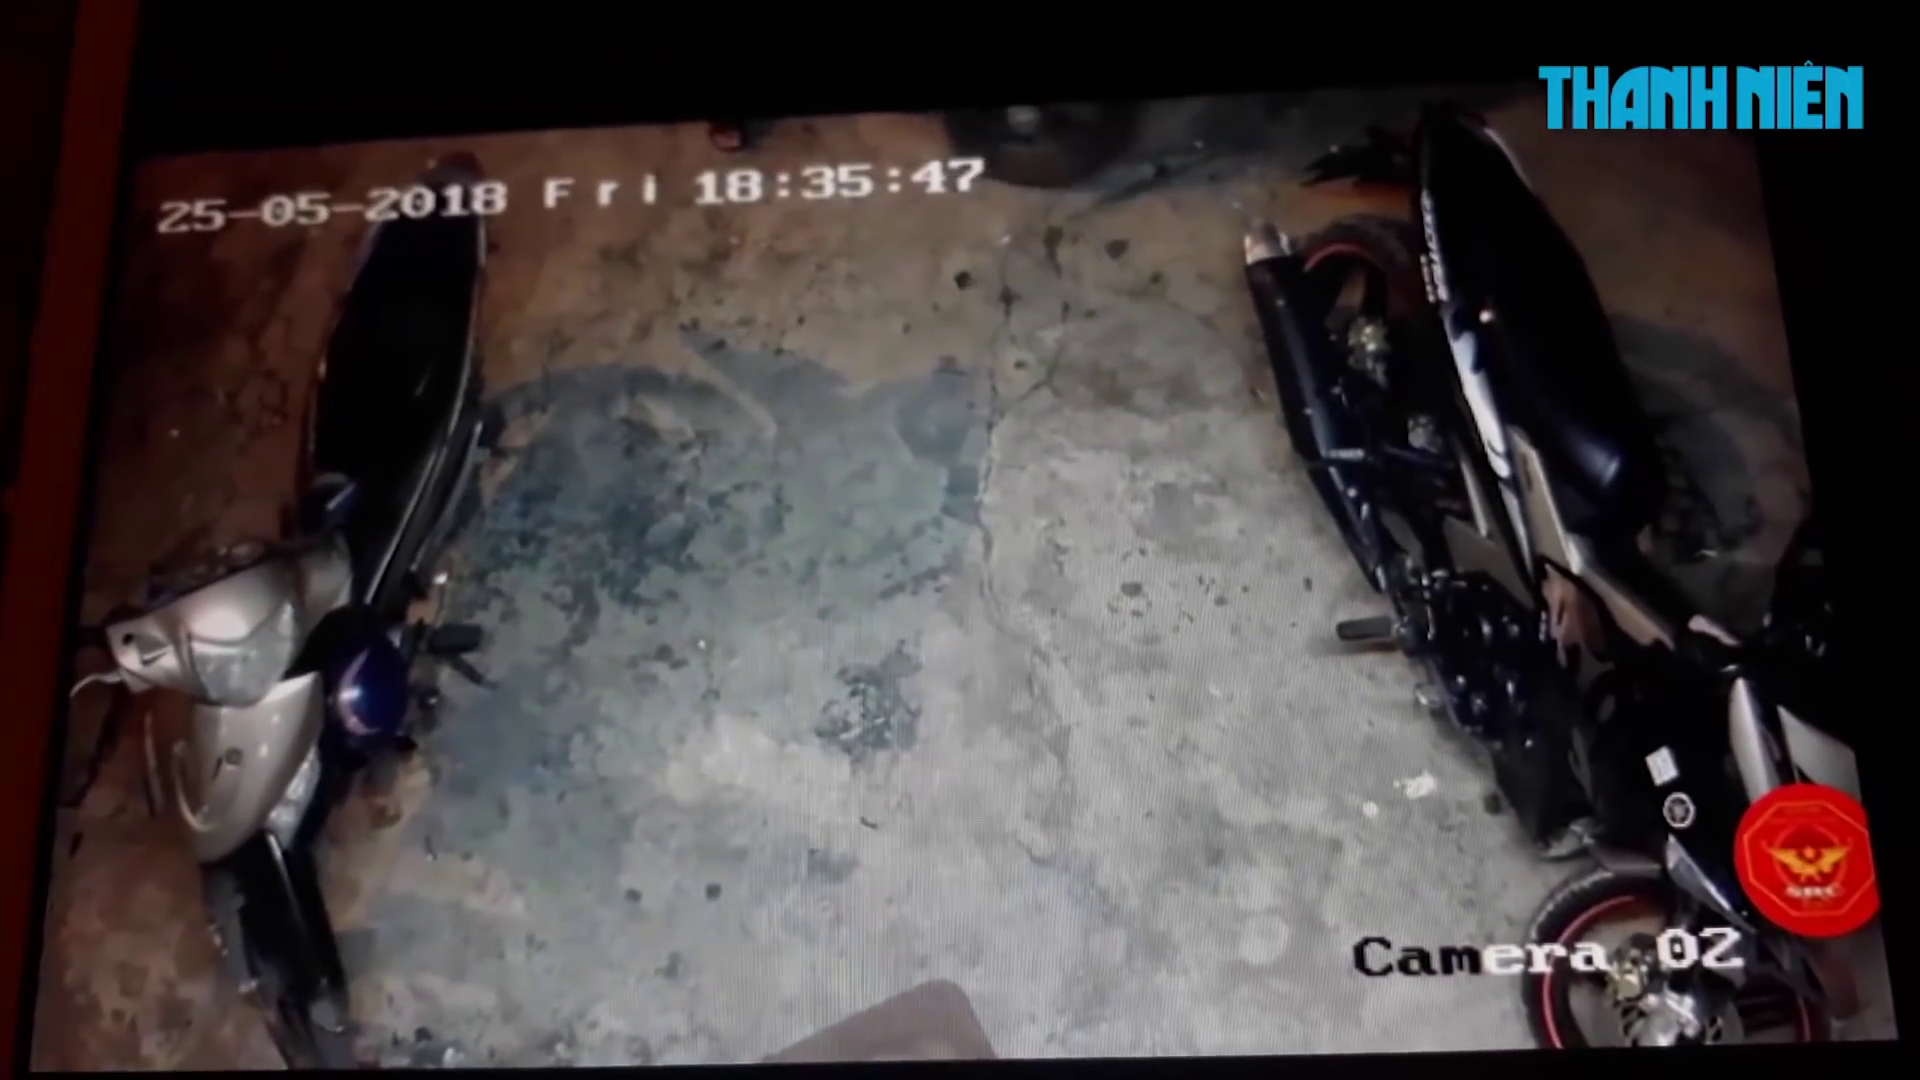Motorcycle: (1244, 94, 1911, 1051)
